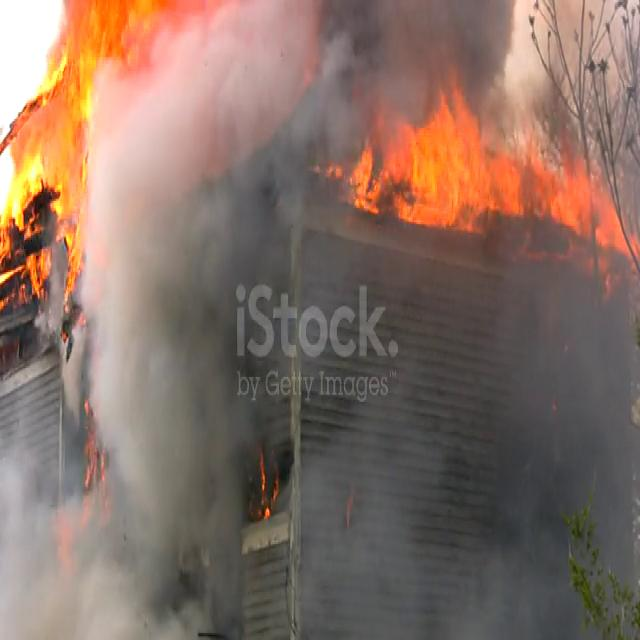fire: (362, 92, 554, 246), (0, 0, 91, 296)
smoke: (96, 294, 218, 619), (185, 0, 299, 164)
